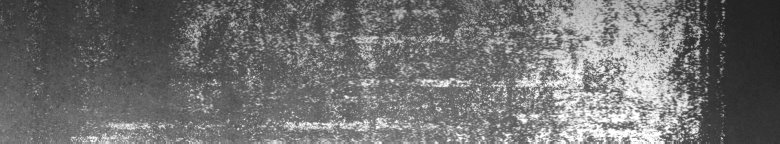kb: (29, 4, 726, 136)
